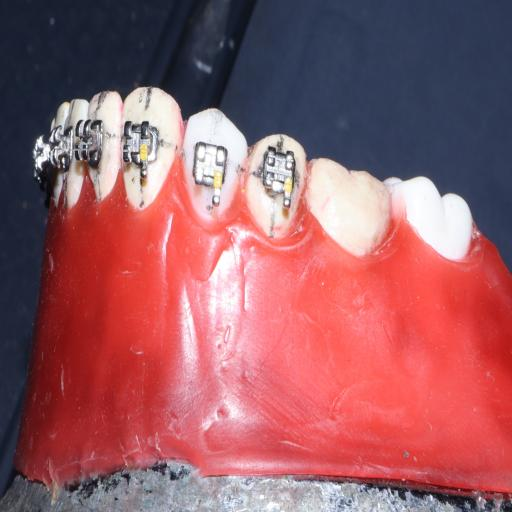correct_brace: (184, 110, 245, 221)
incorrect_brace: (192, 141, 228, 186)
